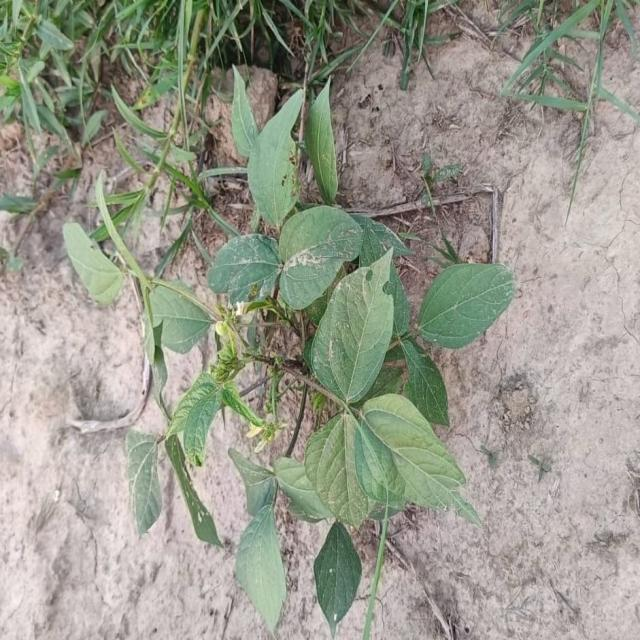plant: (64, 71, 514, 636)
